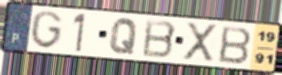1: (72, 13, 87, 53)
B: (141, 18, 179, 60), (217, 25, 253, 66)
G: (29, 10, 64, 50)
Q: (108, 17, 140, 56)
X: (183, 21, 219, 63)
